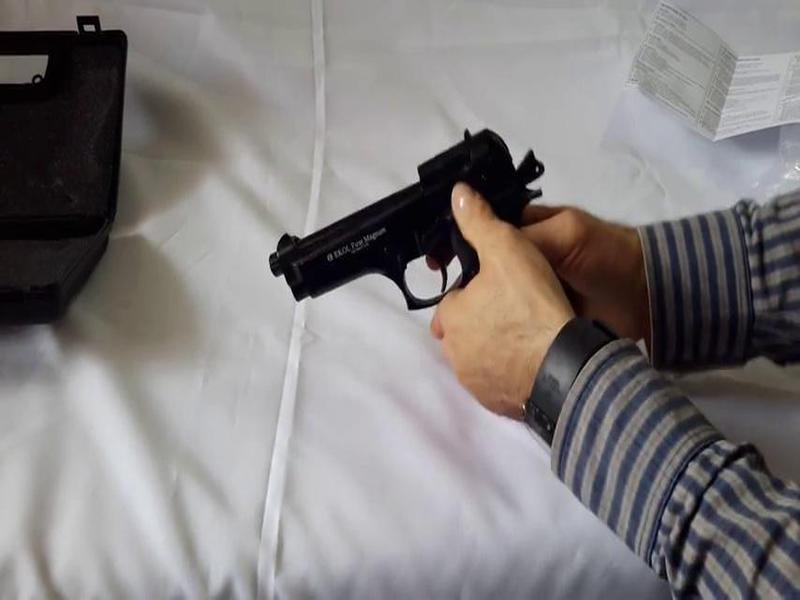Pistola: (249, 119, 541, 356)
